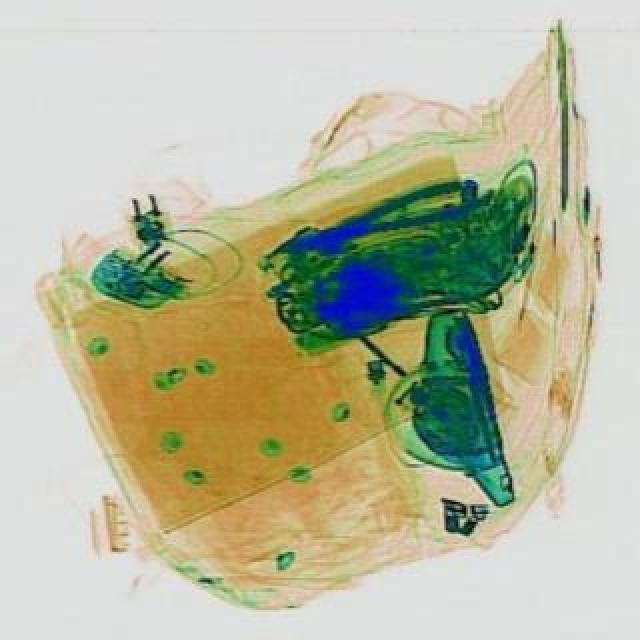wrench: (278, 172, 482, 268)
